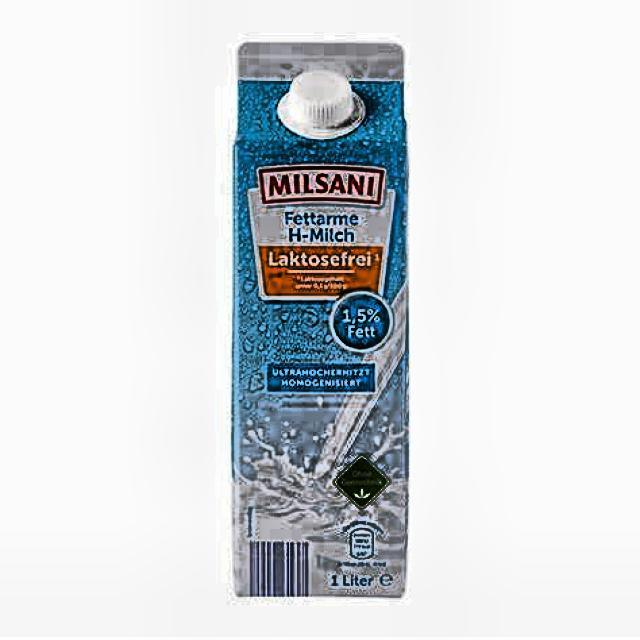cardboard: (230, 41, 410, 598)
